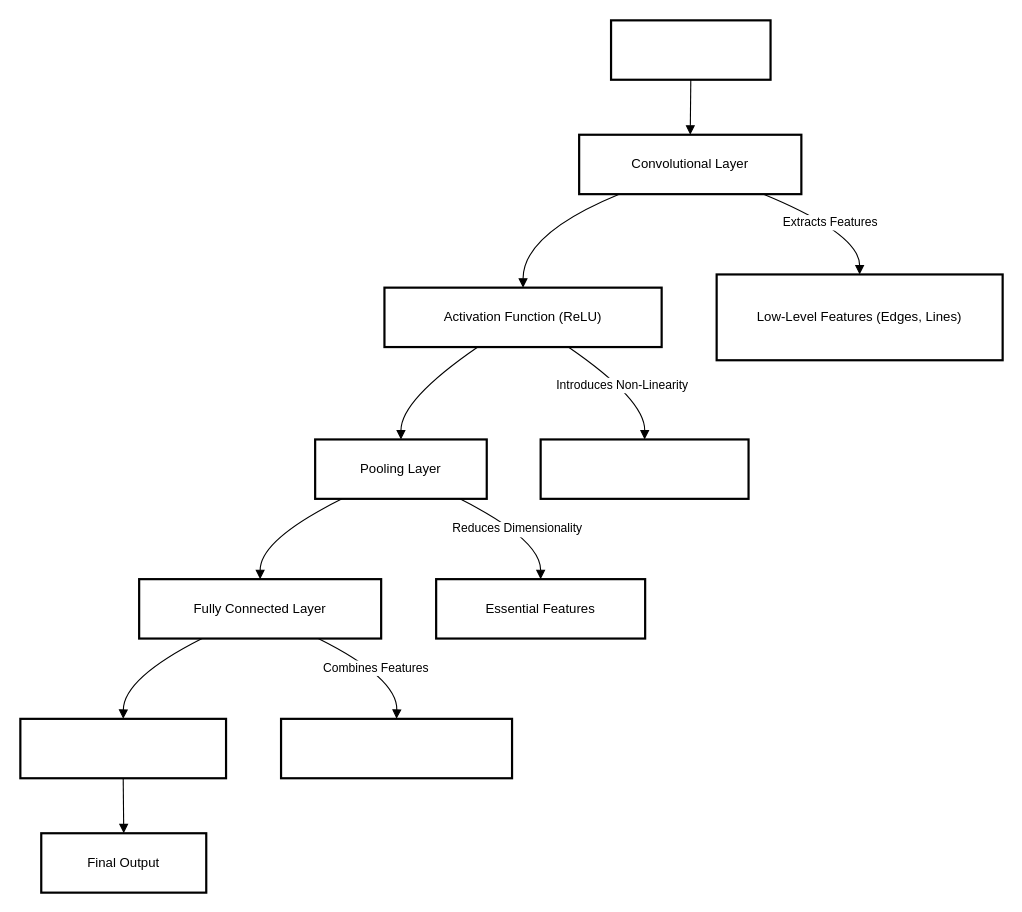
The diagram is 1022 pixels wide and 912 high, and some of its shapes have lost their labels. Each missing label, with the centre of its shape:
Classification Results: point (396, 748)
Complex Features: point (644, 468)
Input Image: point (690, 49)
Output Prediction: point (123, 748)
